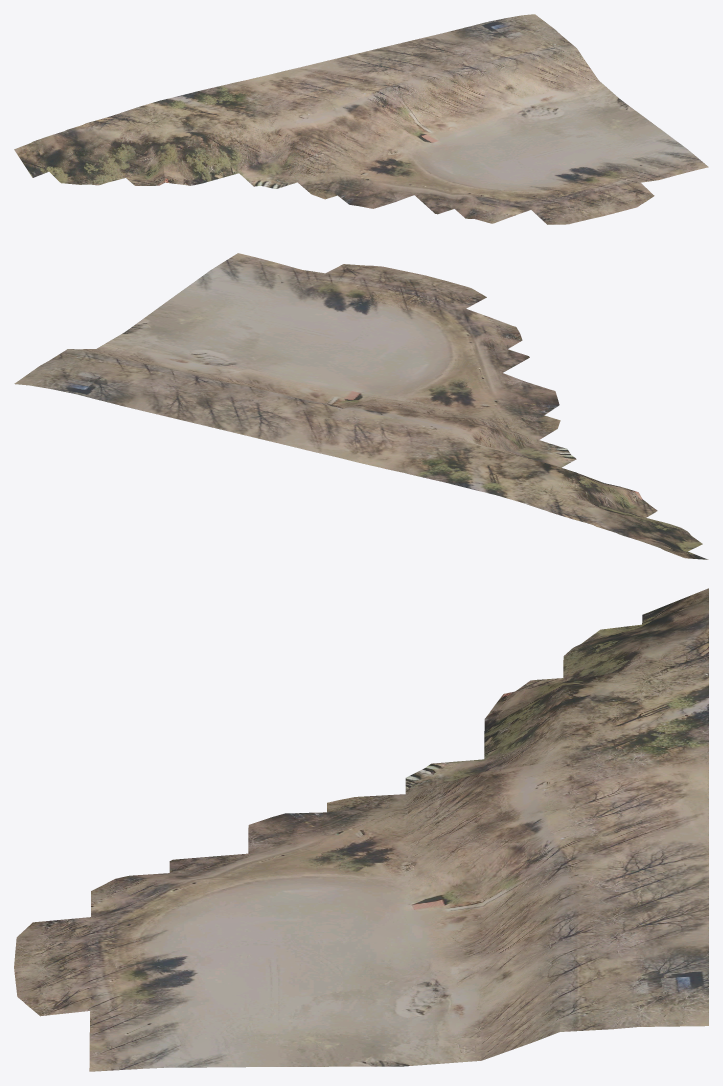
File: CM_Terrain_24486568_6819999.fbx
3 views of the same model, one above another, from view 1: azimuth 30°, elevation 25°; view 2: azimuth 150°, elevation 25°; view 3: azimuth 270°, elevation 25° (orthographic). The views are drawn at different scales.
Parts seen in each view (by area): view 1: CM_Terrain_24486568_6819999_LOD0; view 2: CM_Terrain_24486568_6819999_LOD0; view 3: CM_Terrain_24486568_6819999_LOD0.
Part boxes in pixels (x1=…): CM_Terrain_24486568_6819999_LOD0: x1=14, y1=14, x2=708, y2=224; CM_Terrain_24486568_6819999_LOD0: x1=14, y1=253, x2=708, y2=559; CM_Terrain_24486568_6819999_LOD0: x1=14, y1=588, x2=708, y2=1071.
Size of what is drawn, in the model's own units: 205 by 13.16 by 133.
